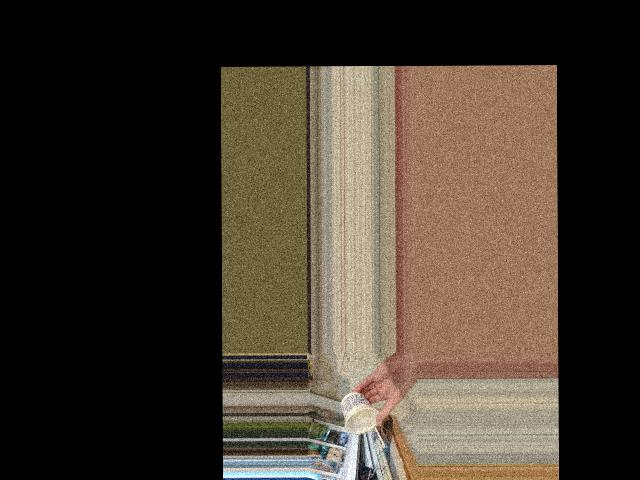cotage: (344, 389, 376, 434)
